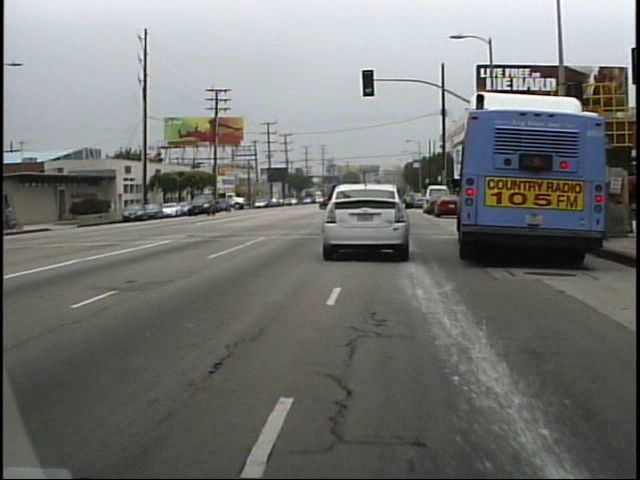person: (105, 195, 119, 221)
